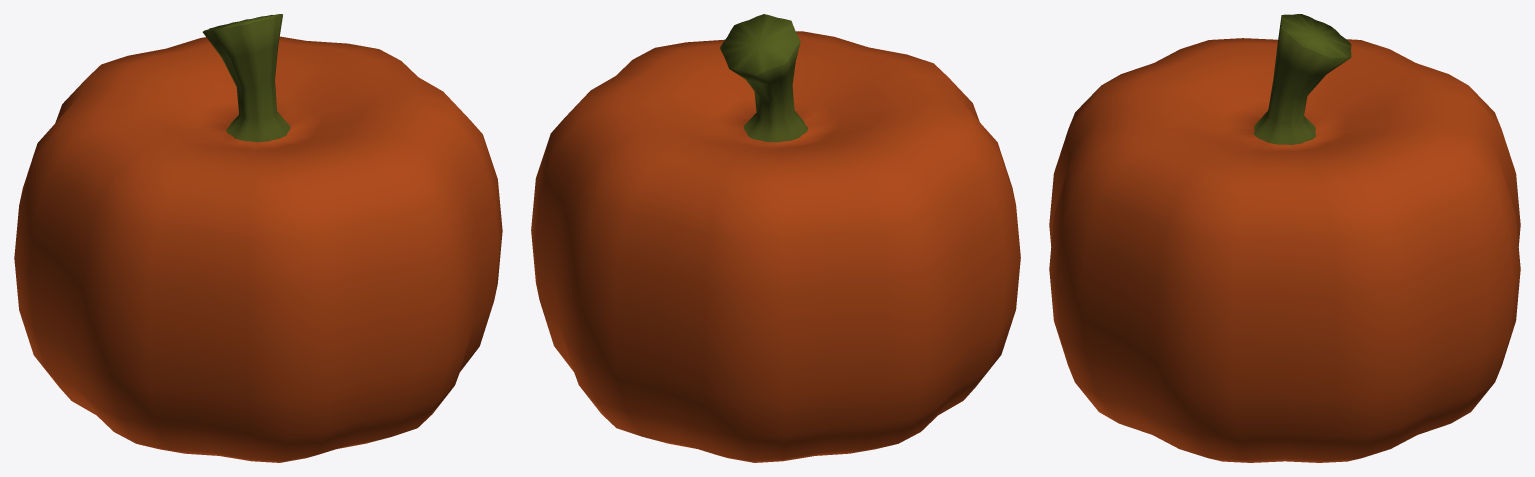
Rendered from PROP_Pumpkin.fbx.
3 views of the same model, side by side, from view 1: azimuth 30°, elevation 25°; view 2: azimuth 150°, elevation 25°; view 3: azimuth 270°, elevation 25° (orthographic).
Parts seen in each view (by area): view 1: Pumpkin; view 2: Pumpkin; view 3: Pumpkin.
Part boxes in pixels (x1,y1,x2,y2): Pumpkin: (14,14,502,462); Pumpkin: (531,14,1020,462); Pumpkin: (1049,14,1520,462).
Bounding box in the file's own units: 0.4961 × 0.4431 × 0.4961.
